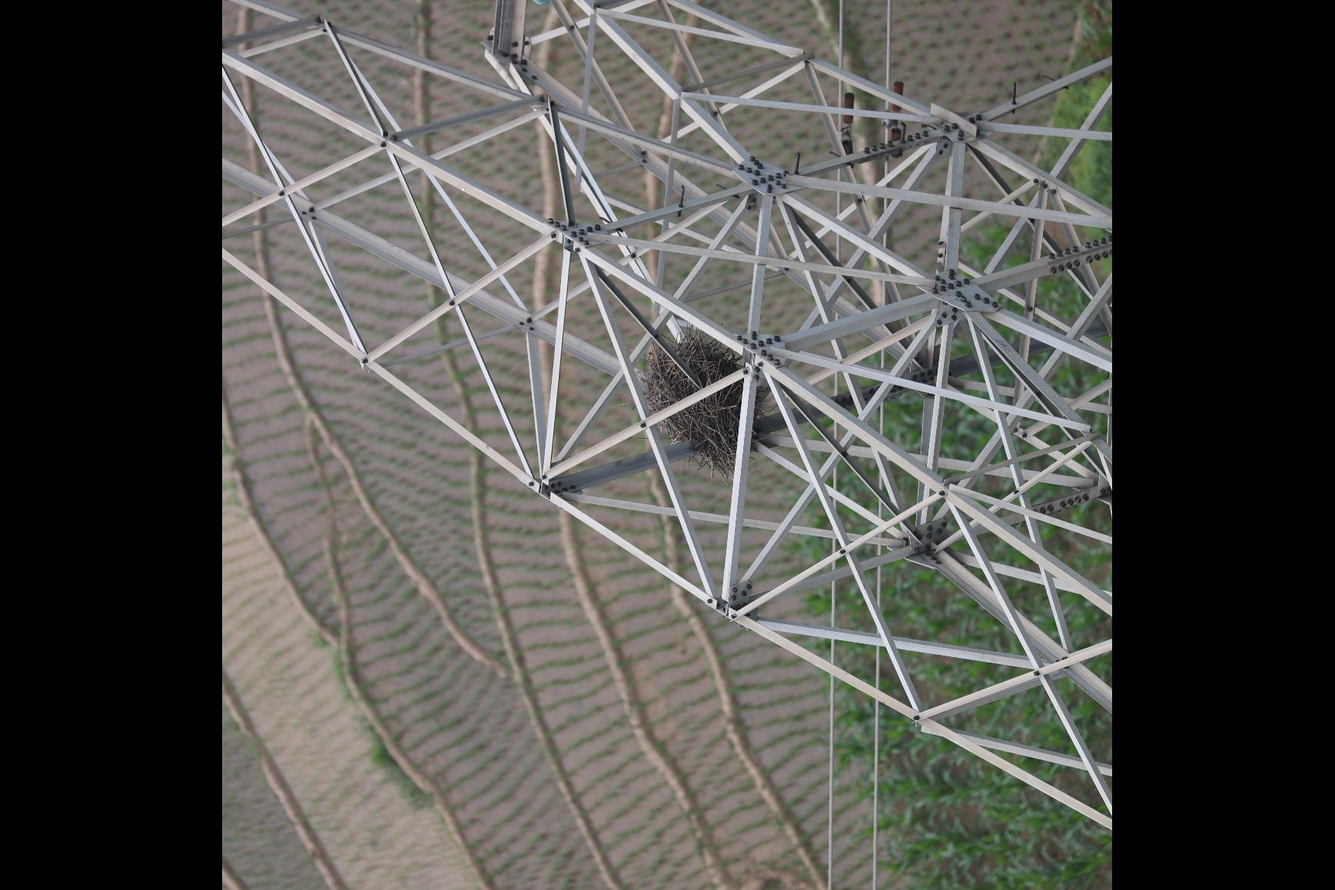damper: (879, 78, 906, 161), (839, 88, 858, 157)
nest: (635, 320, 747, 481)
